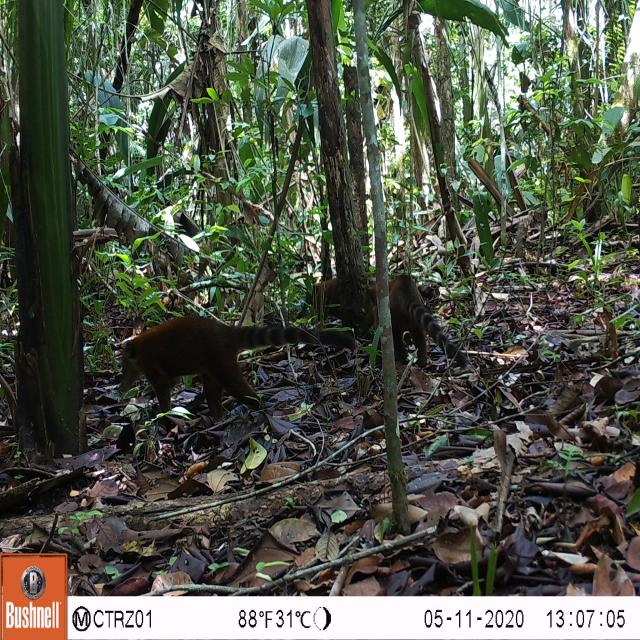South American Coati: (113, 306, 357, 429), (364, 262, 472, 374), (300, 270, 447, 326)
